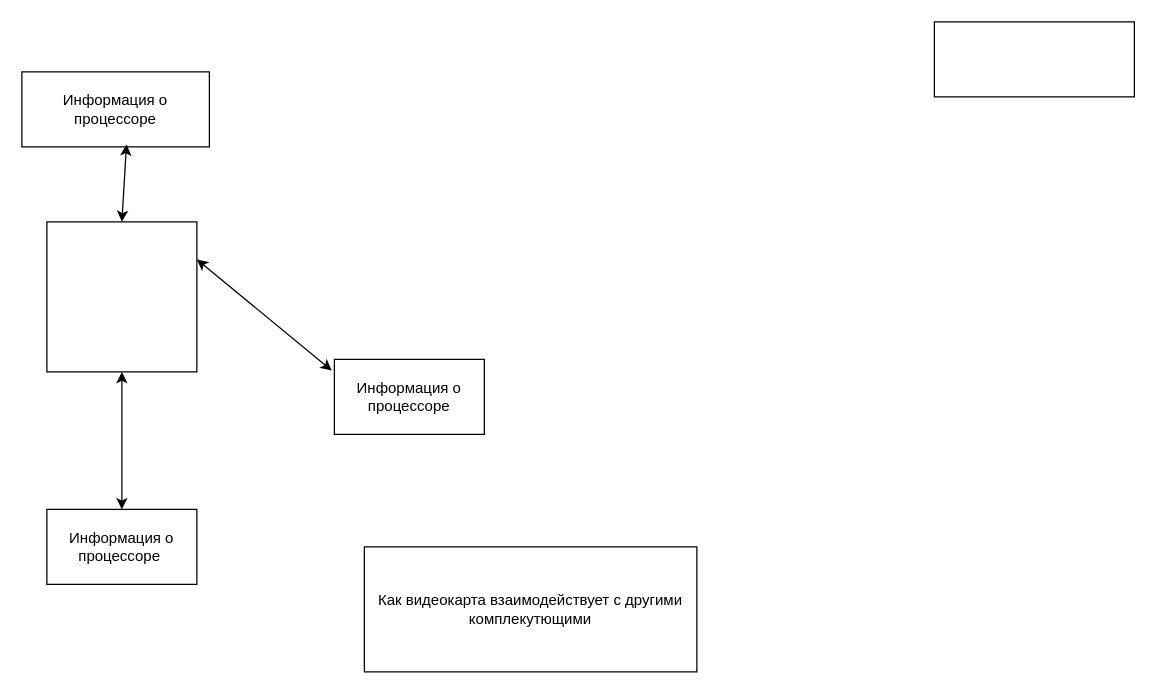
Image size: 1156x694. Some labels were removed from this diagram. The box of each missing label's shape, as (x1, y1, x2, y2) in pixels:
Статус пользователя: (933, 21, 1134, 97)
Фото для процессоре: (46, 221, 197, 372)
